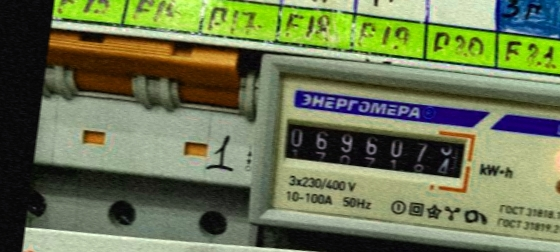0: (387, 135, 405, 159), (287, 125, 304, 148)
4: (435, 154, 451, 177)
6: (312, 128, 329, 150), (362, 134, 379, 156)
7: (412, 140, 429, 163)
9: (337, 131, 353, 153)
screen: (268, 106, 480, 191)
